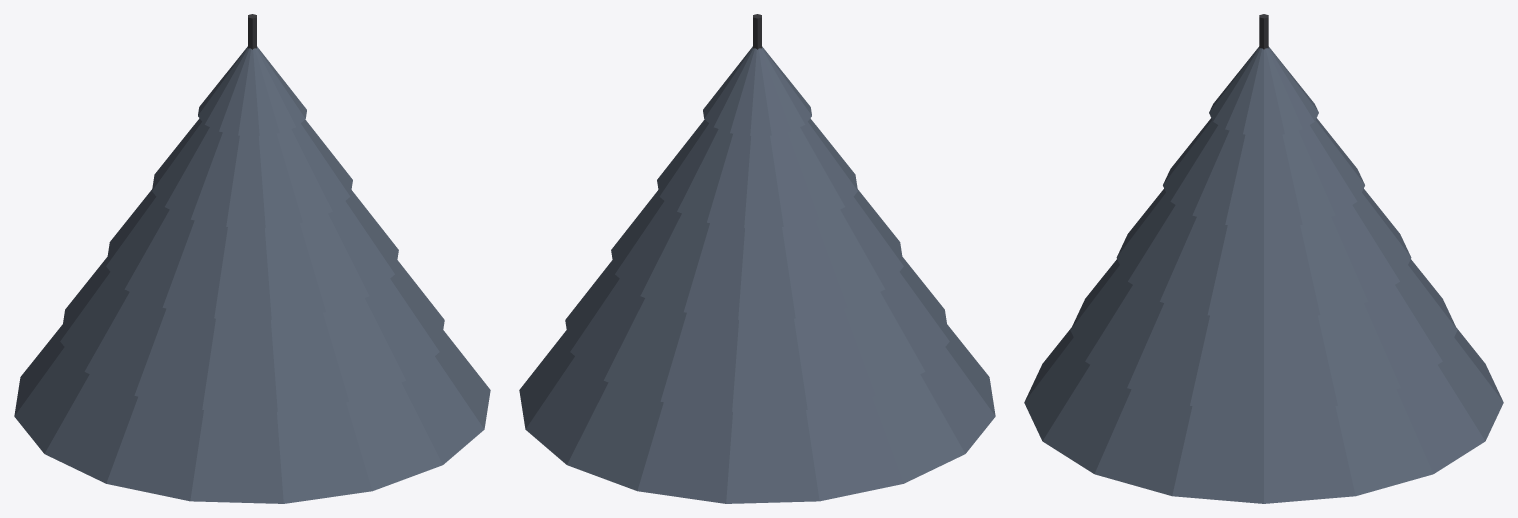
File: stone_tower_roof_lod0.glb
3 renders of one model, left to right at view 1: azimuth 30°, elevation 25°; view 2: azimuth 150°, elevation 25°; view 3: azimuth 270°, elevation 25°, orthographic.
Visible parts, largest first — view 1: stone_tower_roof; view 2: stone_tower_roof; view 3: stone_tower_roof.
Part boxes in pixels (x1,y1,x2,y2): stone_tower_roof: (14, 14, 490, 503); stone_tower_roof: (519, 14, 995, 503); stone_tower_roof: (1024, 14, 1503, 503).
Size of the model in its own units: 5.4 by 4.8 by 5.4.
